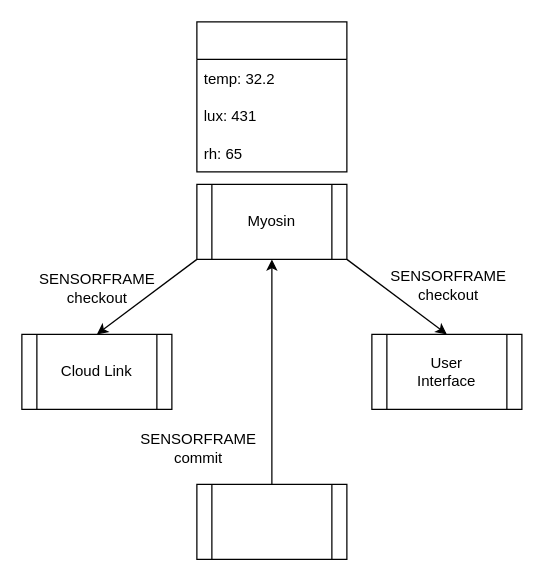
This 544x581 diagram has some shape labels left out. Here are the shapes that lost their labels. From the top down, the box of each, then its label:
(196, 21, 347, 172): Sensorframe
(196, 483, 347, 559): UART Interface
